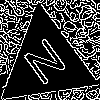N: (21, 36, 74, 95)
